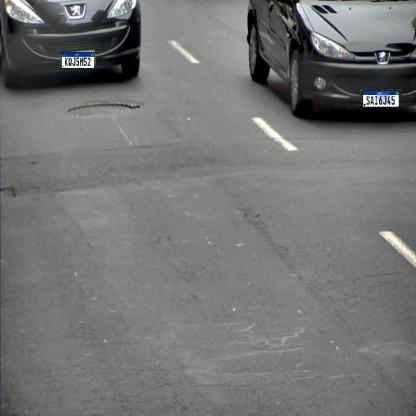PlacaM: (362, 90, 400, 108), (61, 52, 95, 69)
